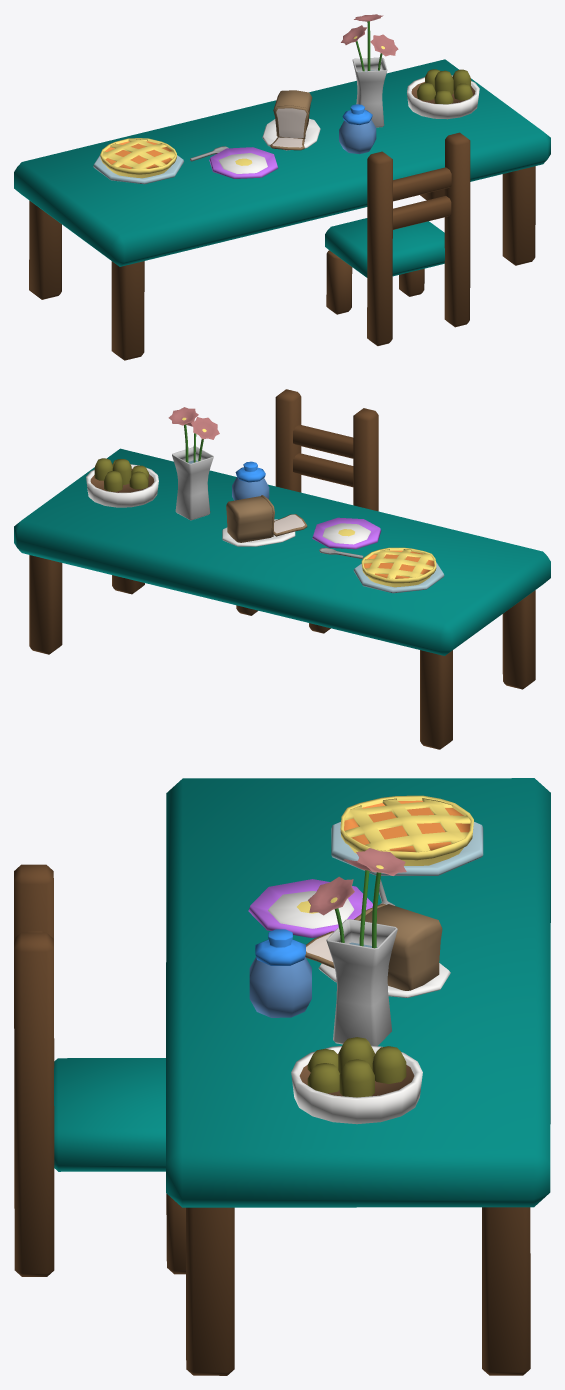
File: Dinning_Table.fbx
3 renders of one model, top to bottom at view 1: azimuth 30°, elevation 25°; view 2: azimuth 150°, elevation 25°; view 3: azimuth 270°, elevation 25°, orthographic. The views are drawn at different scales.
Visible parts, largest first — view 1: Table_1, Chair_1, Plant, Vase, Bread, Pie_2, Plate_02, Tea_Pot, Plate_1; view 2: Table_1, Chair_1, Vase, Bread, Plant, Pie_2, Plate_02, Tea_Pot, Plate_1; view 3: Table_1, Chair_1, Vase, Plant, Pie_2, Bread, Tea_Pot, Plate_02, Plate_1.
Part boxes in pixels (x1,y1,x2,y2): Table_1: [14, 59, 550, 360]; Chair_1: [325, 132, 470, 345]; Plant: [407, 69, 479, 119]; Vase: [341, 14, 398, 127]; Bread: [262, 90, 320, 150]; Pie_2: [100, 138, 176, 178]; Plate_02: [209, 147, 278, 178]; Tea_Pot: [339, 104, 376, 154]; Plate_1: [93, 155, 183, 184]; Table_1: [14, 448, 550, 749]; Chair_1: [236, 389, 378, 633]; Vase: [168, 407, 219, 520]; Bread: [222, 495, 307, 546]; Plant: [86, 458, 158, 507]; Pie_2: [361, 547, 436, 587]; Plate_02: [312, 517, 381, 549]; Tea_Pot: [232, 461, 269, 500]; Plate_1: [353, 562, 444, 593]; Table_1: [166, 778, 550, 1375]; Chair_1: [14, 864, 185, 1276]; Vase: [308, 848, 406, 1046]; Plant: [291, 1037, 422, 1124]; Pie_2: [340, 795, 473, 865]; Bread: [305, 903, 450, 997]; Tea_Pot: [249, 929, 311, 1017]; Plate_02: [248, 879, 372, 938]; Plate_1: [331, 821, 483, 875].
Size of the model in its own units: 310 by 159 by 183.
